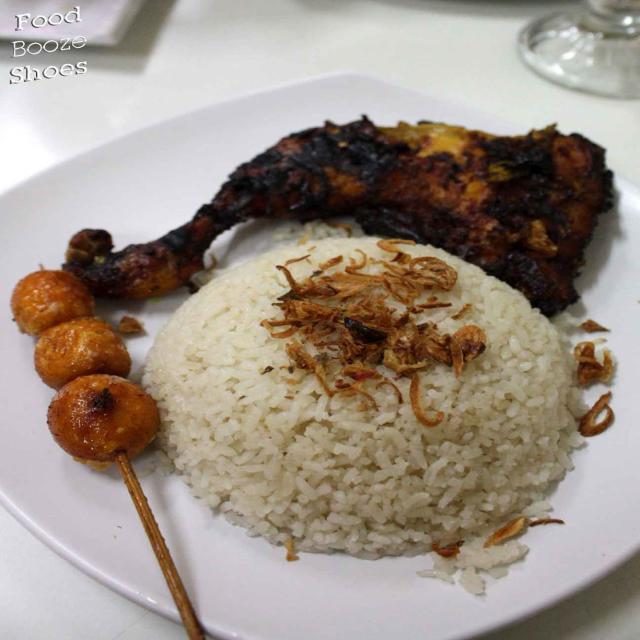Wet: (43, 110, 617, 321)
